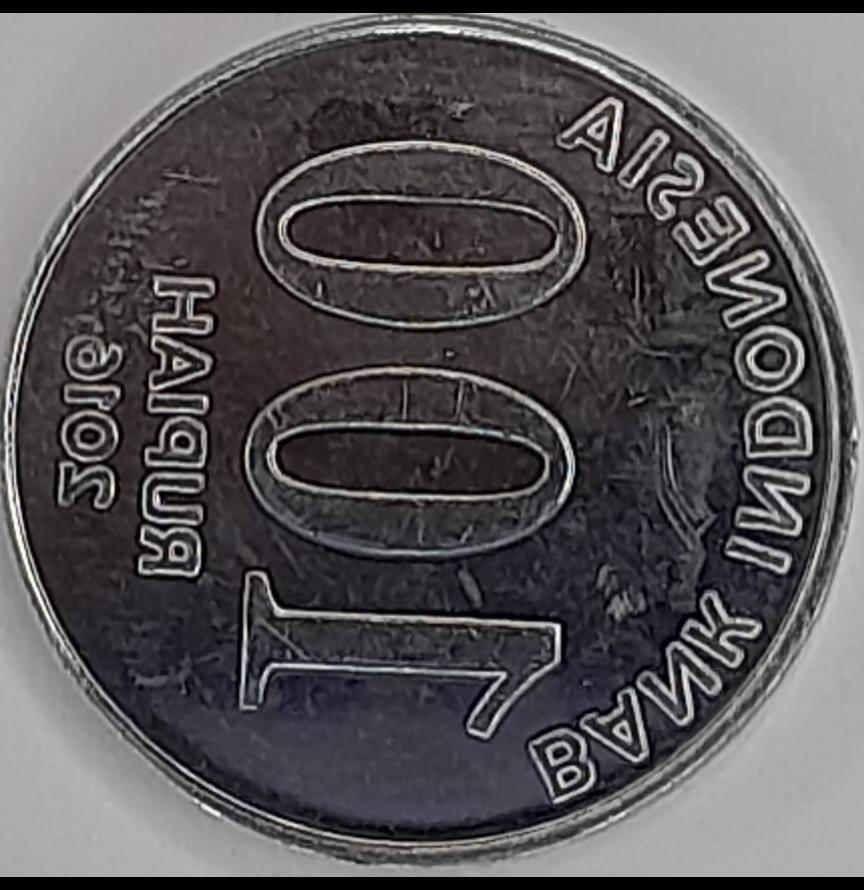coin_100_e2016: (0, 10, 863, 868)
